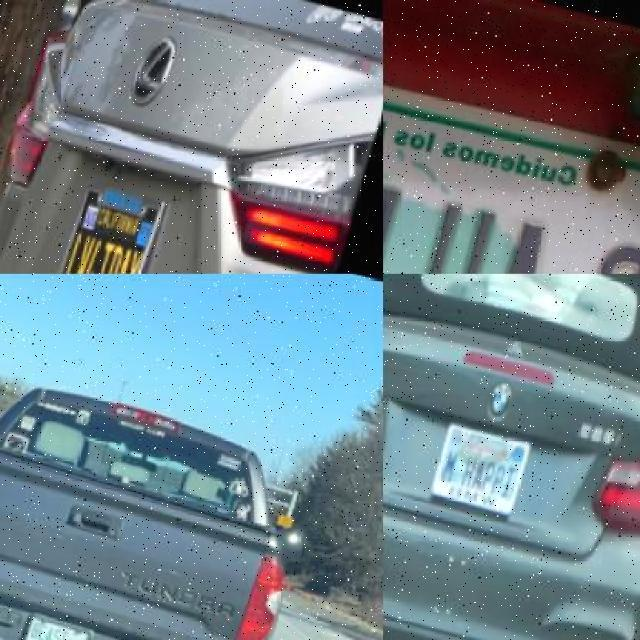LicensePlate: (383, 105, 640, 274), (49, 179, 166, 274), (430, 416, 535, 521), (27, 606, 102, 639)
